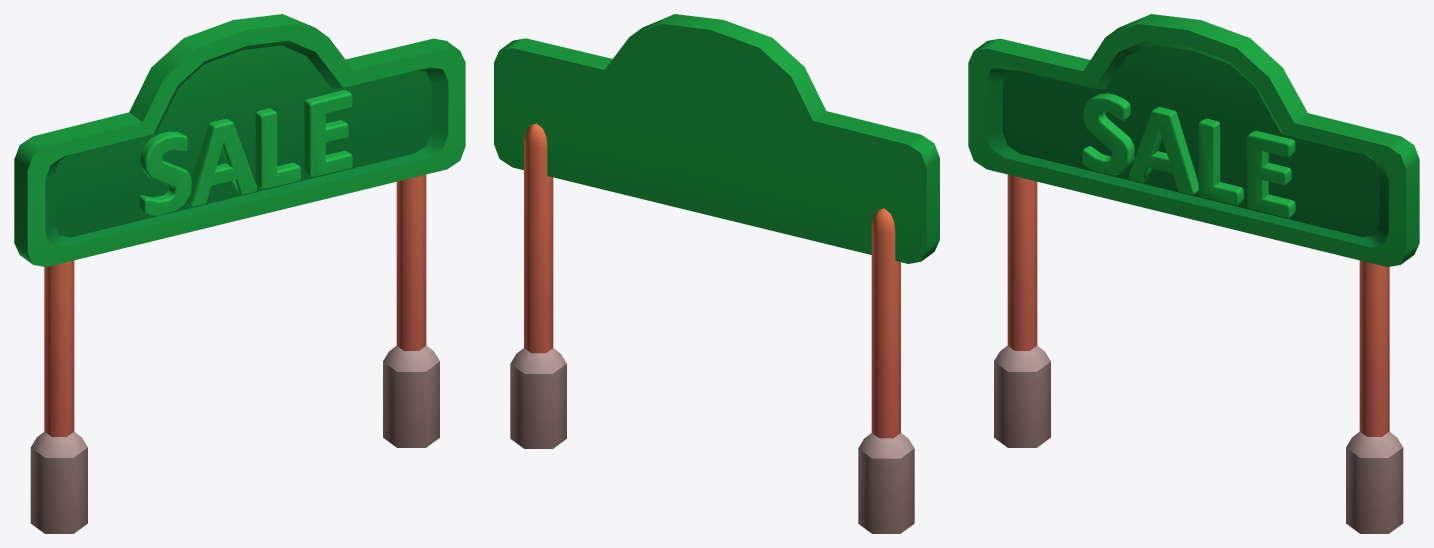
File: sale wood.fbx
The picture shows the model from 3 angles, left to right: view 1: azimuth 30°, elevation 25°; view 2: azimuth 150°, elevation 25°; view 3: azimuth 330°, elevation 25°; orthographic projection.
Visible parts, largest first — view 1: Cube.030; view 2: Cube.030; view 3: Cube.030.
Part boxes in pixels (left/top/right/bottom): Cube.030: left=14, top=14, right=465, bottom=533; Cube.030: left=494, top=14, right=939, bottom=533; Cube.030: left=968, top=14, right=1419, bottom=533.
Size of the model in its own units: 1.03 by 1.04 by 0.1169.
